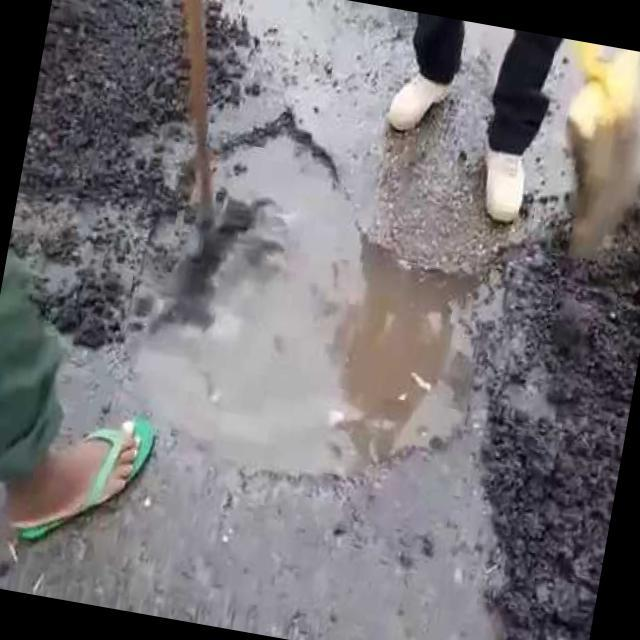Pothole: (98, 89, 520, 512)
